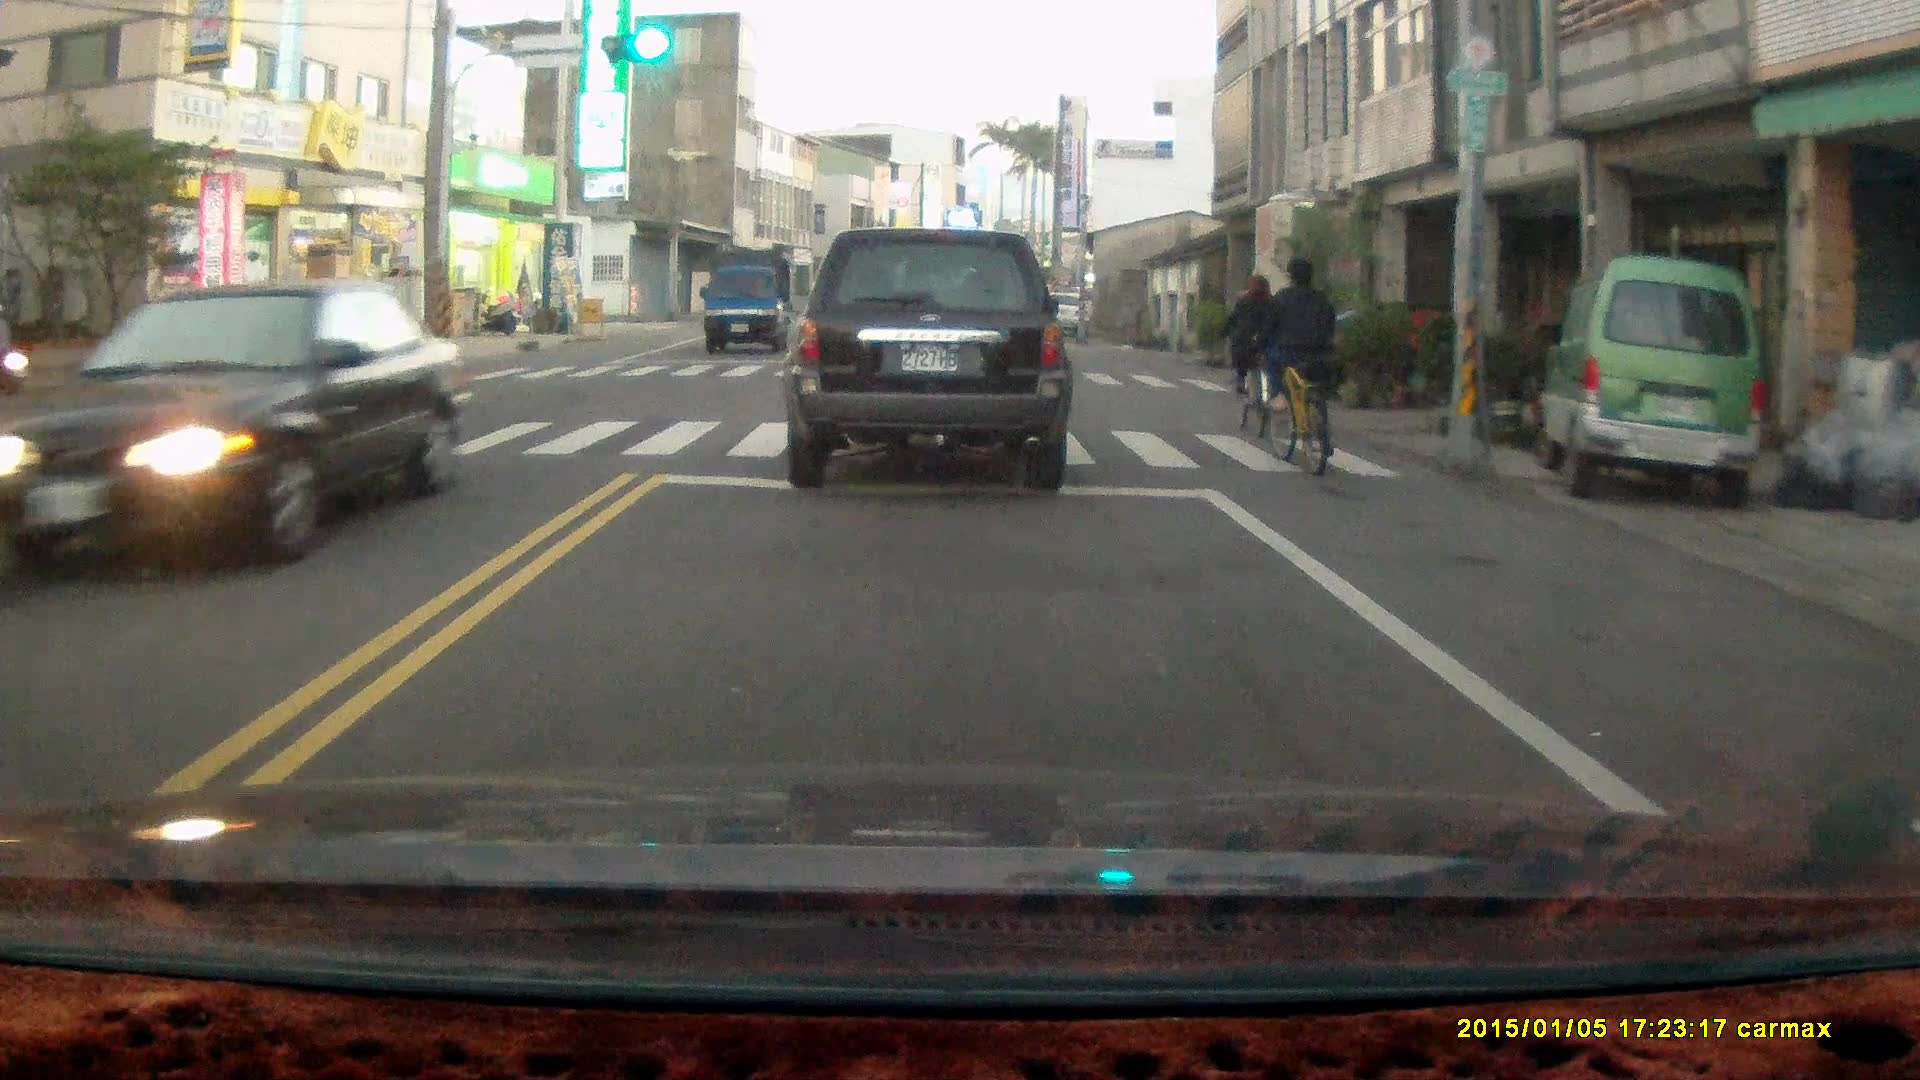rider: (1255, 254, 1342, 474), (1223, 277, 1283, 448), (0, 296, 33, 398)
vehicle: (9, 283, 471, 585), (785, 229, 1073, 497), (1547, 259, 1775, 516), (705, 252, 803, 358)
